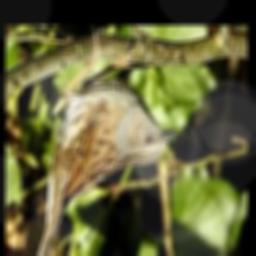Sparrow: (29, 29, 178, 256)
